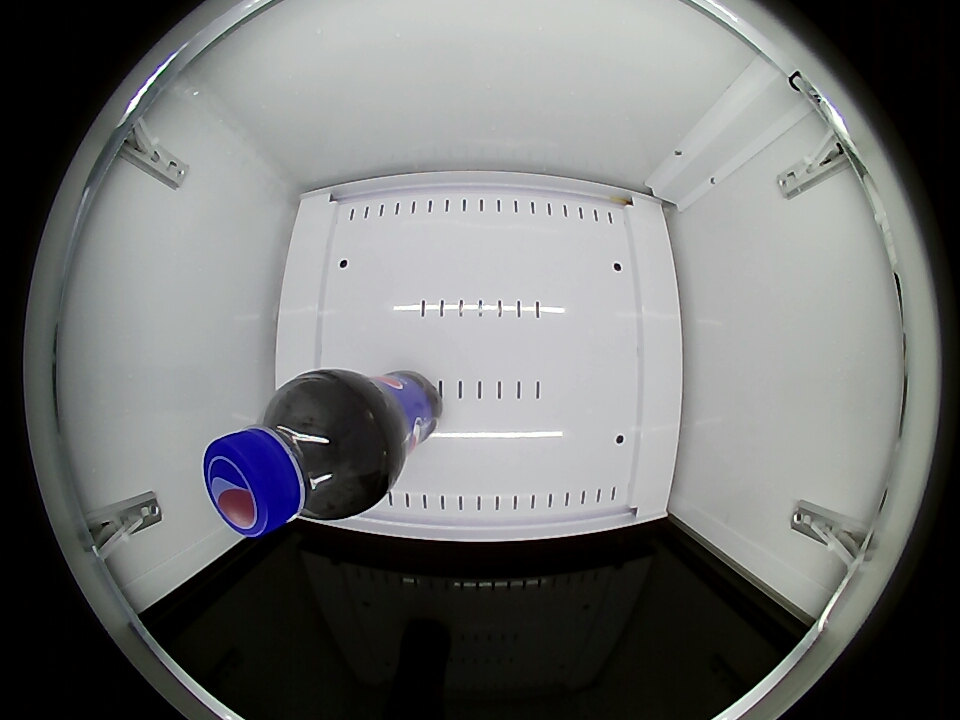baishikele-2: (203, 382, 377, 536)
